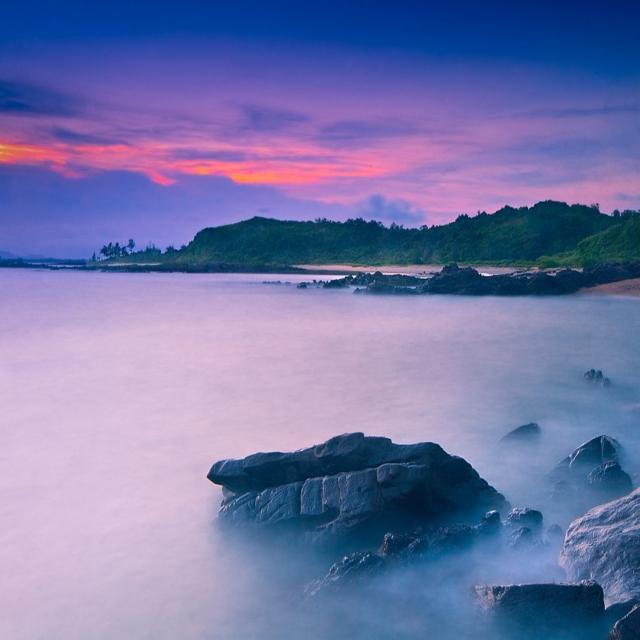island: (87, 182, 637, 304)
